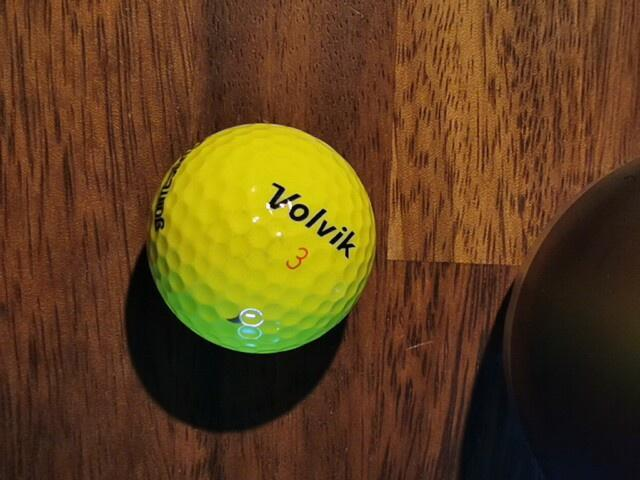Ball: (146, 123, 377, 355)
Volvik: (269, 182, 356, 259)
